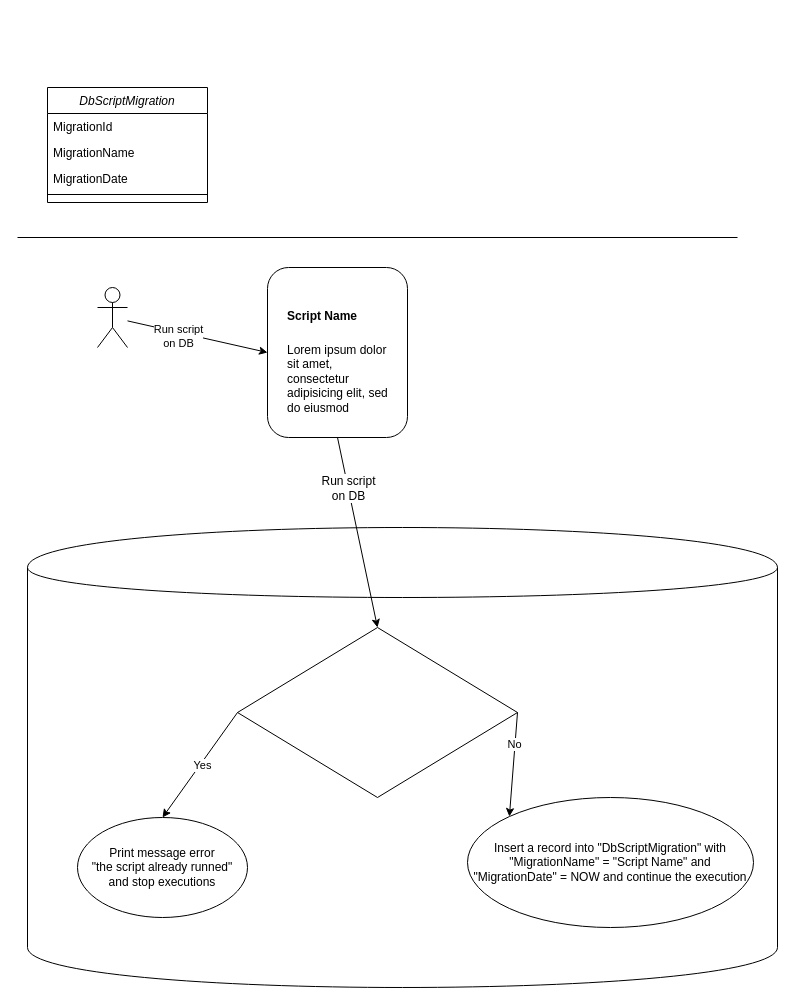
This 795x1005 diagram has some shape labels left out. The centre of each missing label's shape, as x and y in pixels:
Check if there is a record in DbScriptMigration MigrationName = "Script Name": (x=377, y=712)
Developer / DBA: (x=112, y=317)
